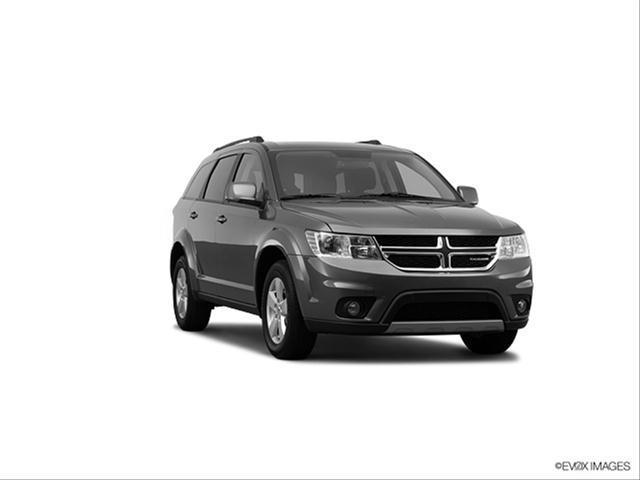car: (171, 138, 535, 366)
